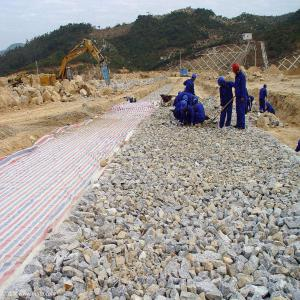blue: (218, 77, 226, 89), (182, 100, 189, 112), (192, 73, 198, 83), (193, 99, 199, 107), (266, 102, 271, 109), (264, 84, 268, 91)
red: (232, 63, 241, 77)
